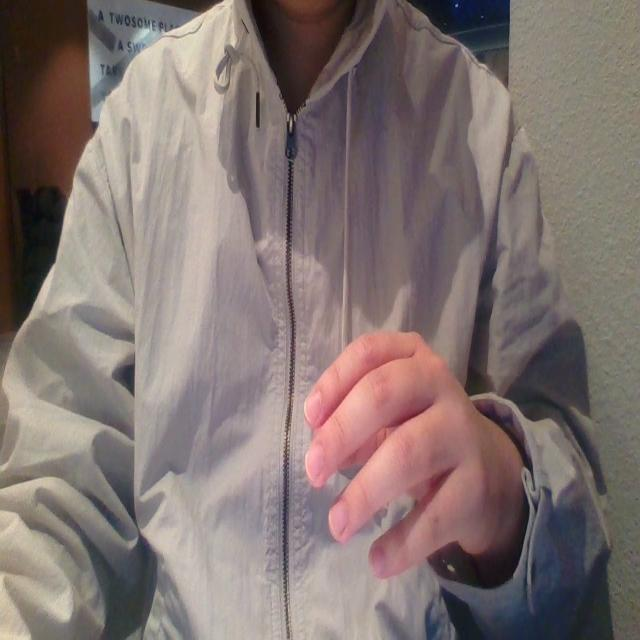hand: (284, 314, 498, 587)
